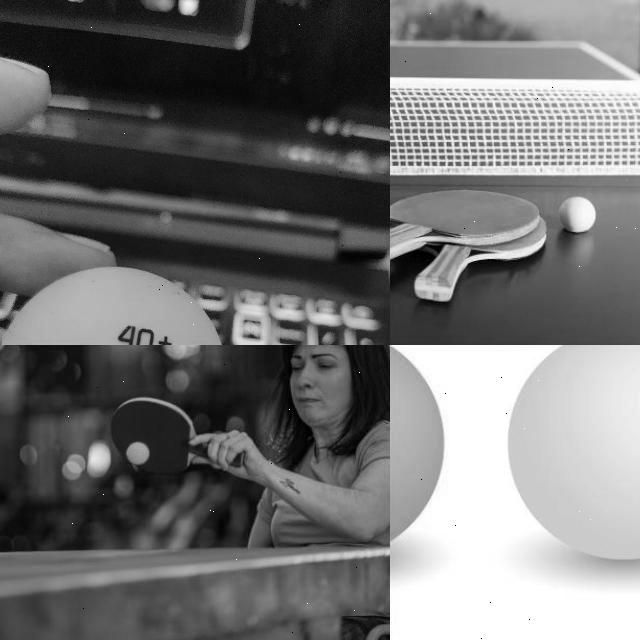ping-pong-ball: (506, 346, 640, 559), (0, 266, 226, 344), (390, 345, 446, 558), (558, 196, 594, 234), (124, 444, 148, 464)
